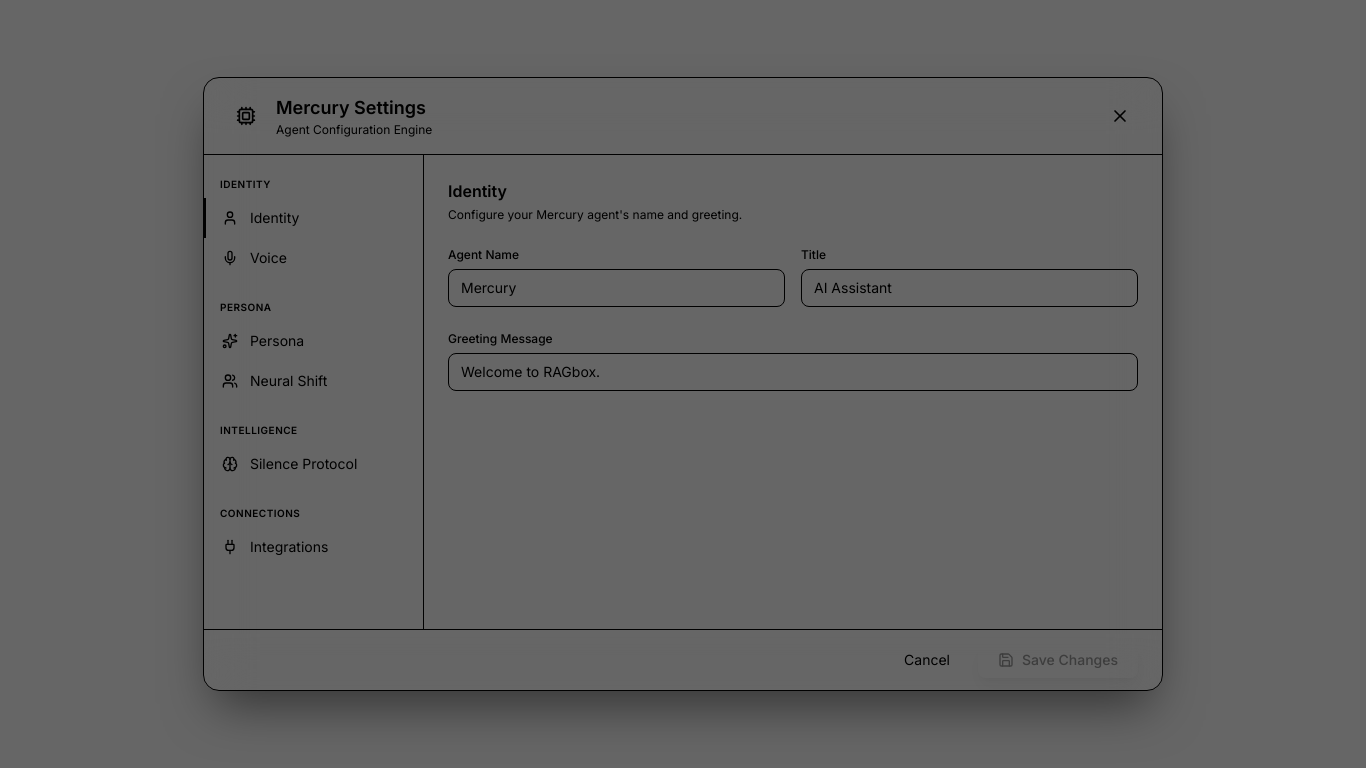
Scenario: MercurySettingsModal › save button enables after editing a field
In the field showing "Mercury" below "Agent Name": (616, 288) [448,269,785,307], type "Atlas"
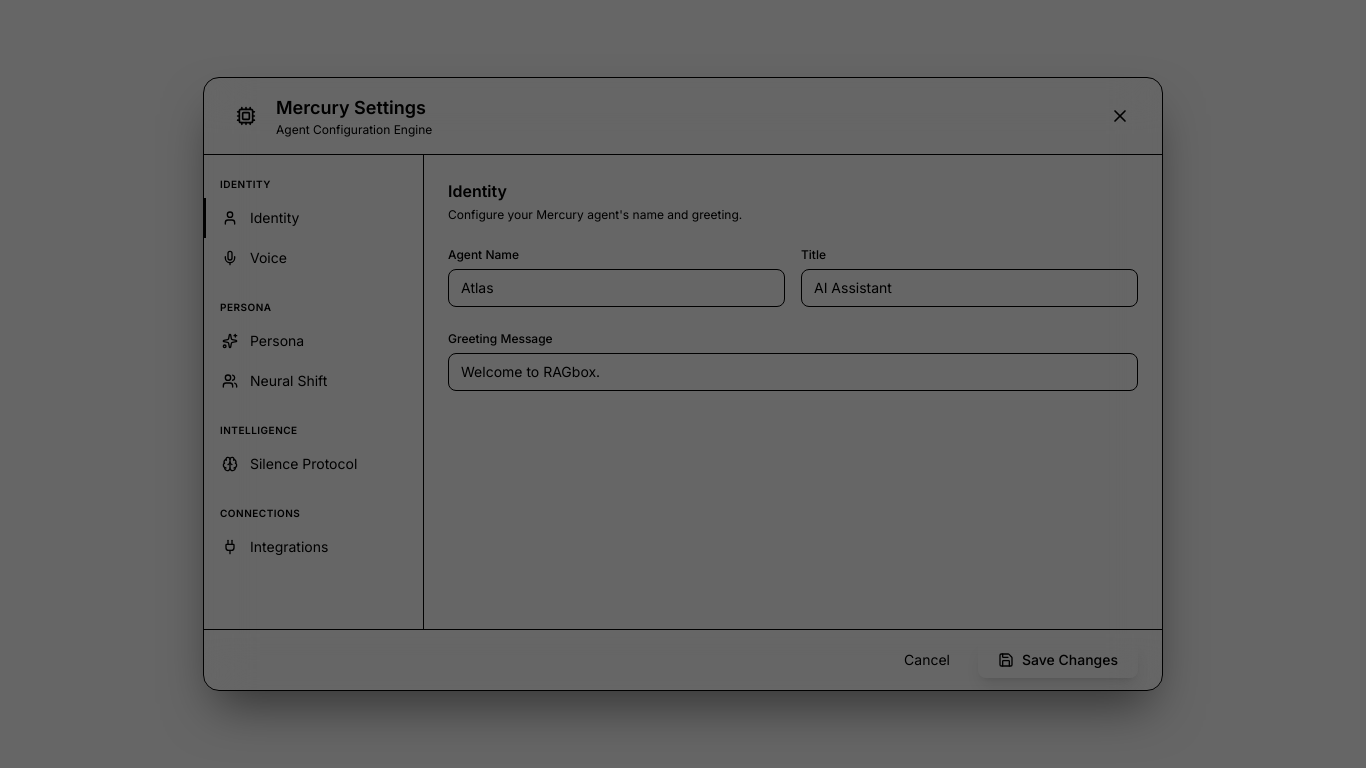
Now the button "Save Changes" is enabled, box [978,642,1138,678]
